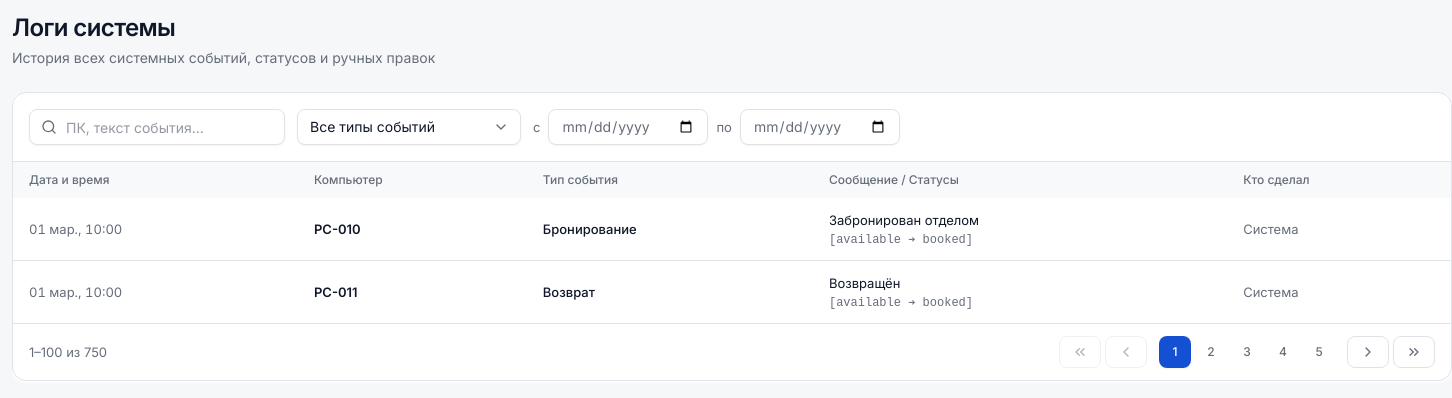
Scenario: EventsPage › пагинация: страница меняет запрос, текущая помечена aria-current
Expected: the text "1–100 из 750" is shown, [29, 342, 107, 362]
Click the button named "На последнюю страницу" at (1414, 352), box [1393, 336, 1435, 368]
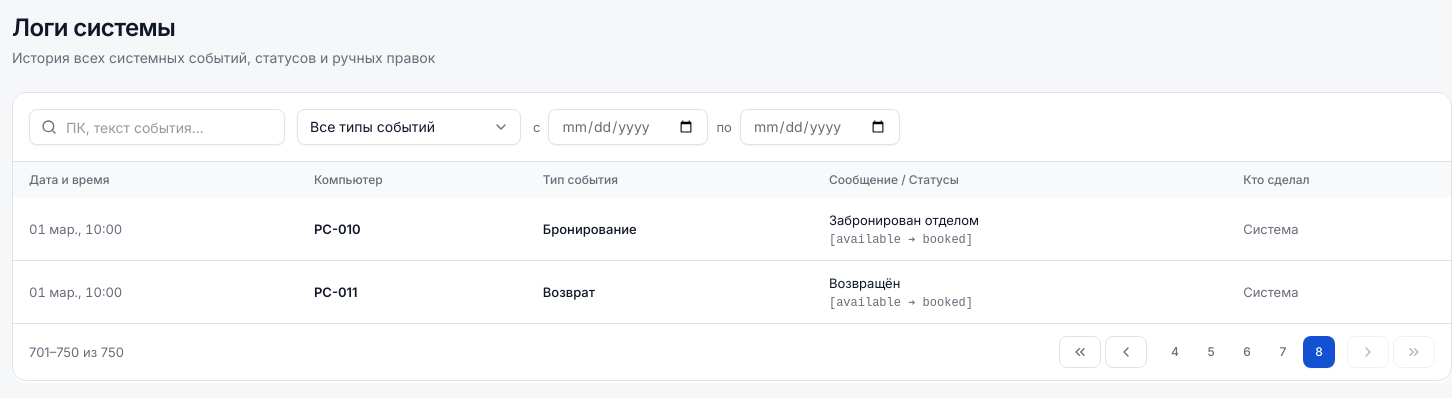
Expected: the text "701–750 из 750" is shown, [29, 342, 124, 362]
